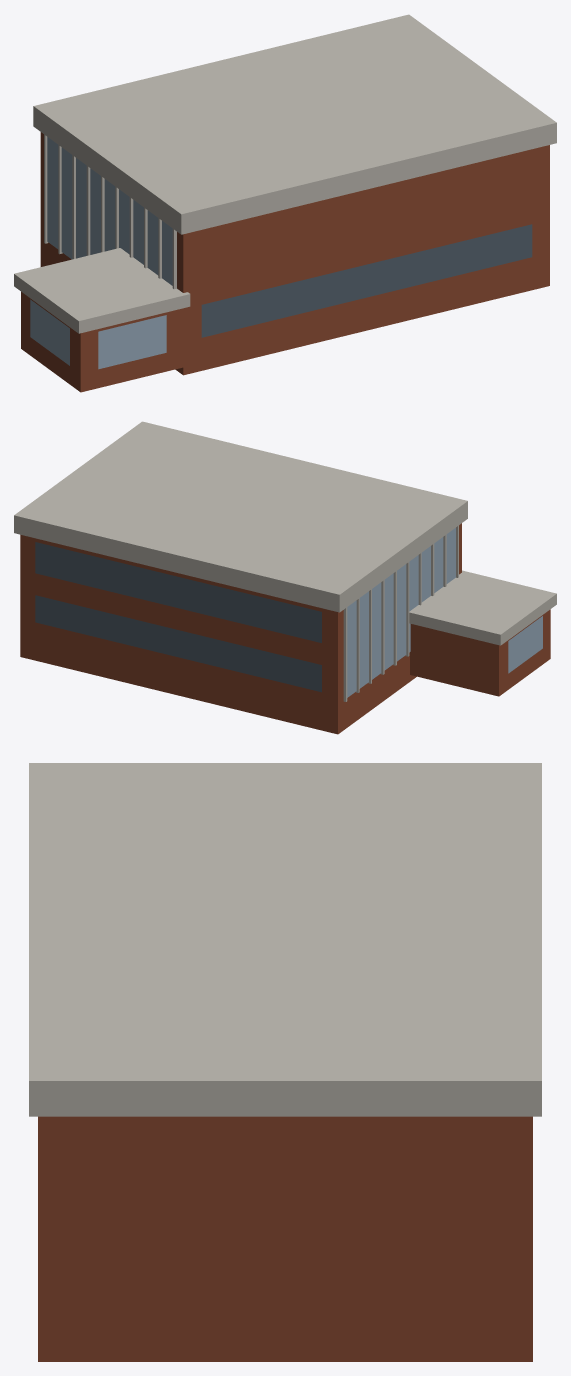
File: lru-larson-library-1961.glb
3 views of the same model, one above another, from view 1: azimuth 30°, elevation 25°; view 2: azimuth 150°, elevation 25°; view 3: azimuth 270°, elevation 25° (orthographic). The views are drawn at different scales.
Parts seen in each view (by area): view 1: lru_larson_library_1961; view 2: lru_larson_library_1961; view 3: lru_larson_library_1961.
Boxes of the visible parts, x1=… form: lru_larson_library_1961: x1=14, y1=14, x2=556, y2=392; lru_larson_library_1961: x1=14, y1=421, x2=556, y2=734; lru_larson_library_1961: x1=29, y1=763, x2=541, y2=1361.
Bounding box in the file's own units: 31.8 × 10.43 × 17.04.
